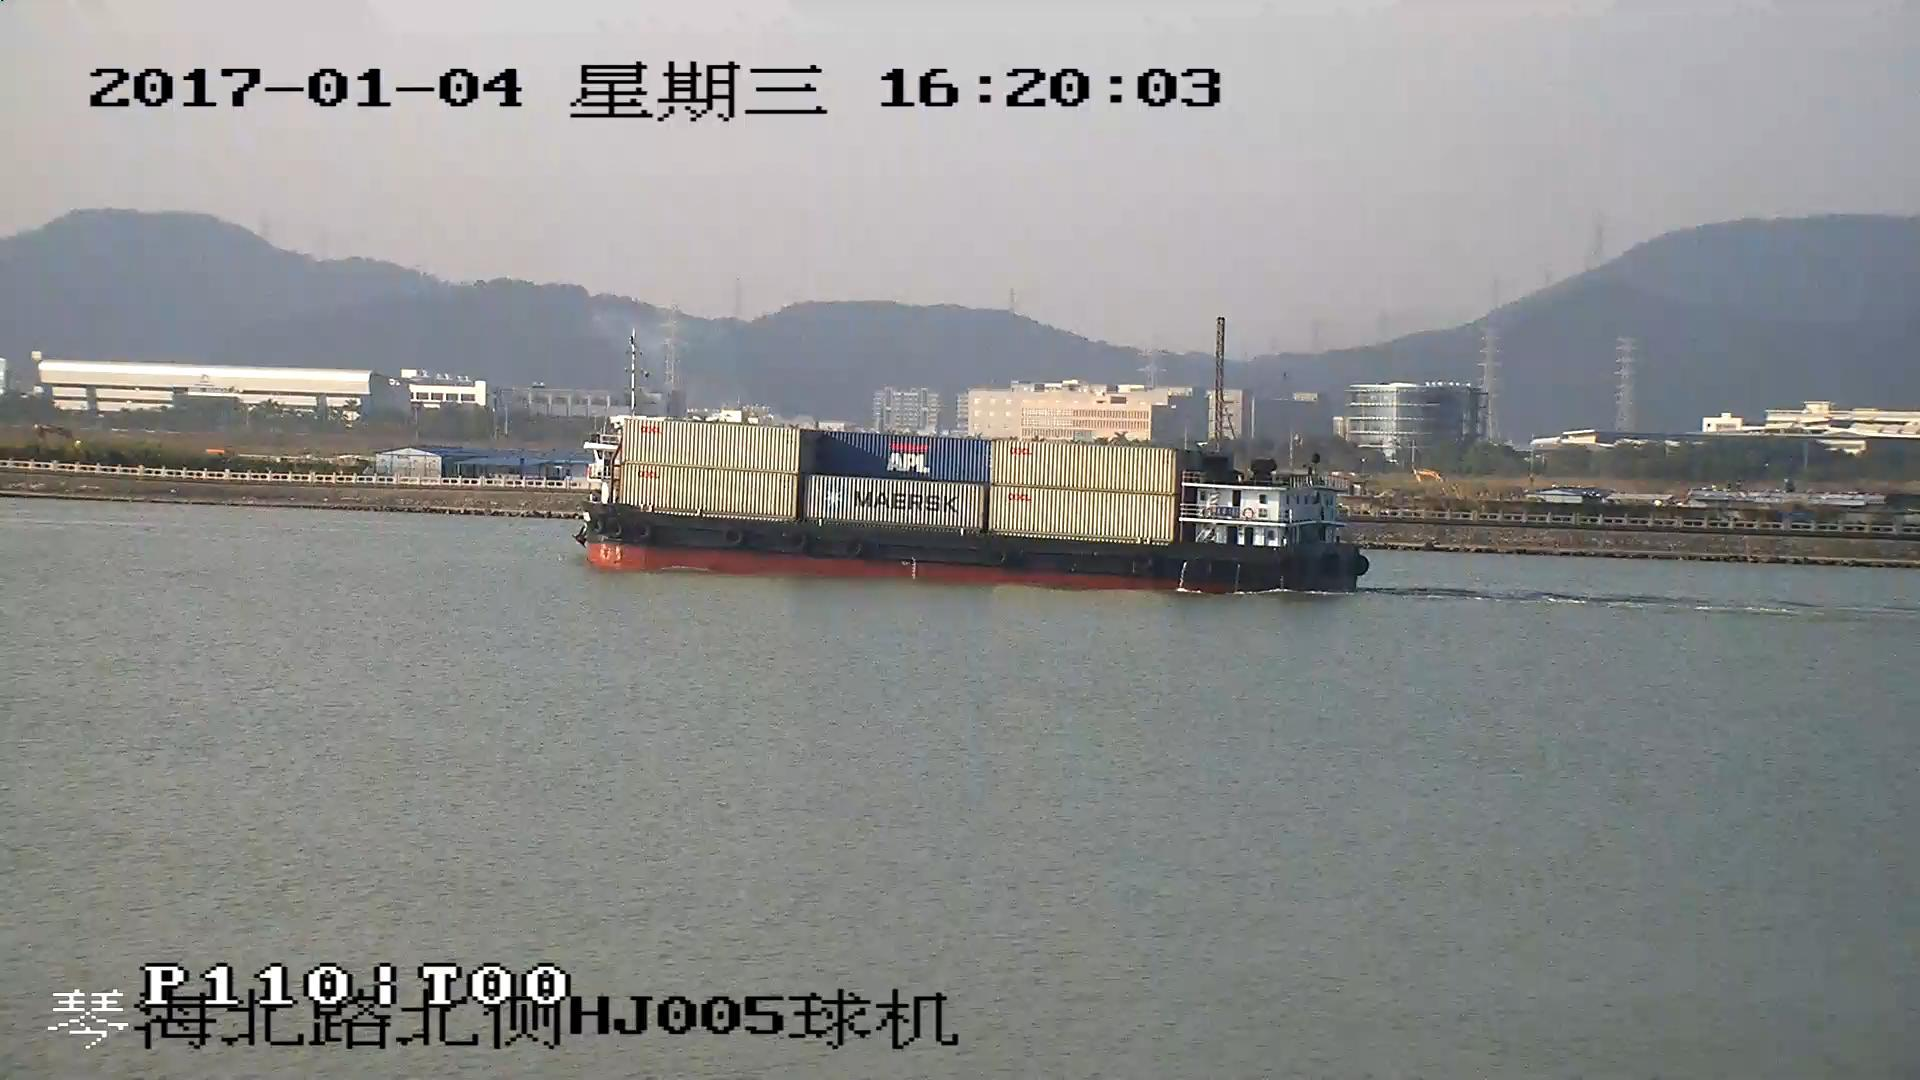Ship: (574, 415, 1373, 599)
